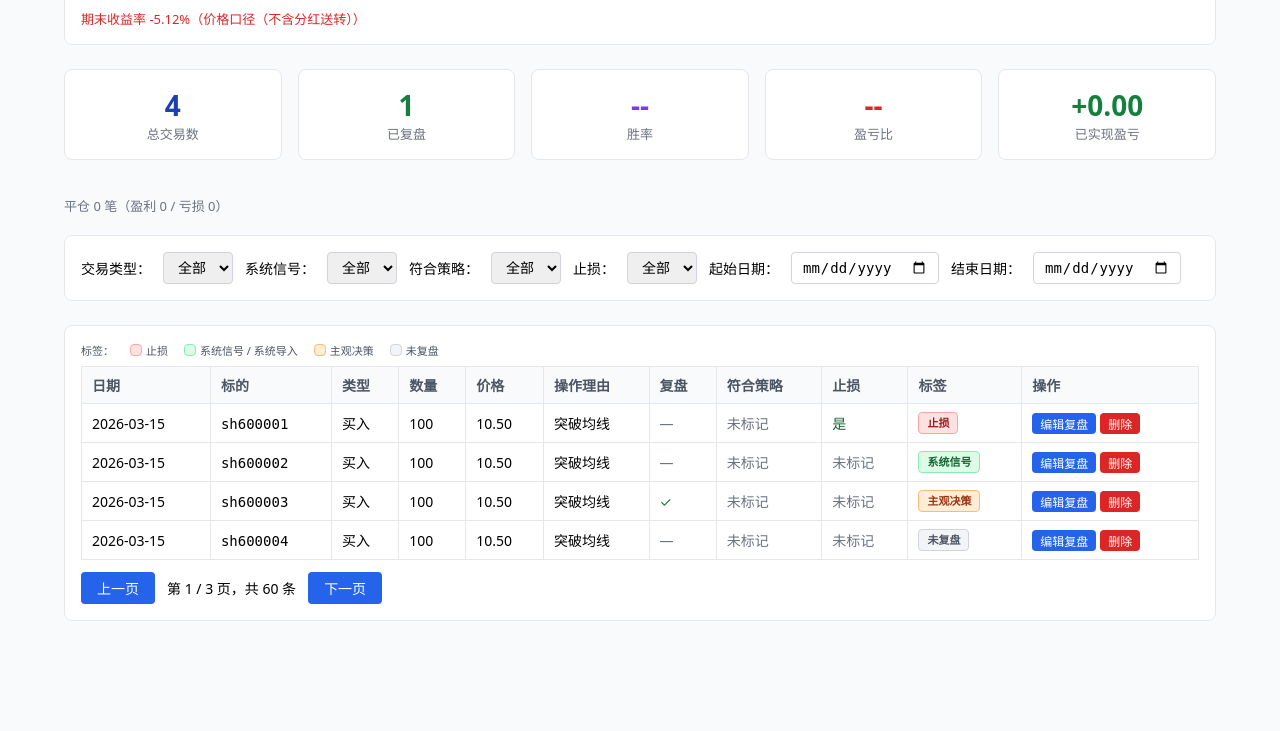
Scenario: T69 ③ · 分页可推进（修 setPage 缺失 bug） › 点「下一页」→ 页码变 2，且请求带 page=2（**旧实现页码永远停在 1**）
(page scrolled)
Click the button "下一页". click: (345, 588)
box: [308,572,382,604]
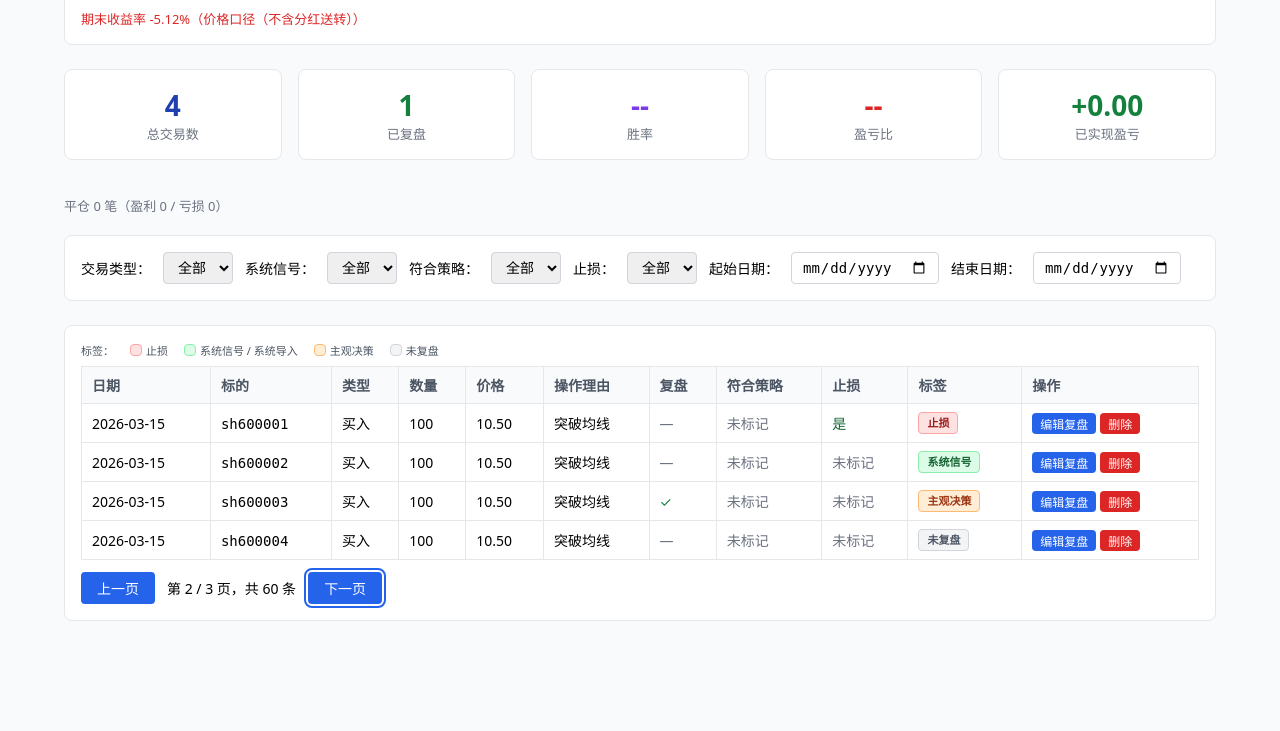
Check: the text "第 2 / 3 页，共 60 条" is shown, box [167,578,296,598]
